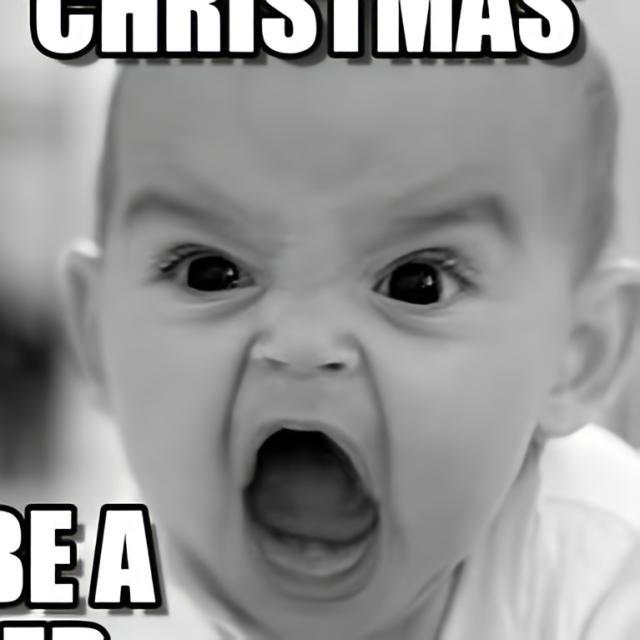anger: (98, 73, 551, 640)
